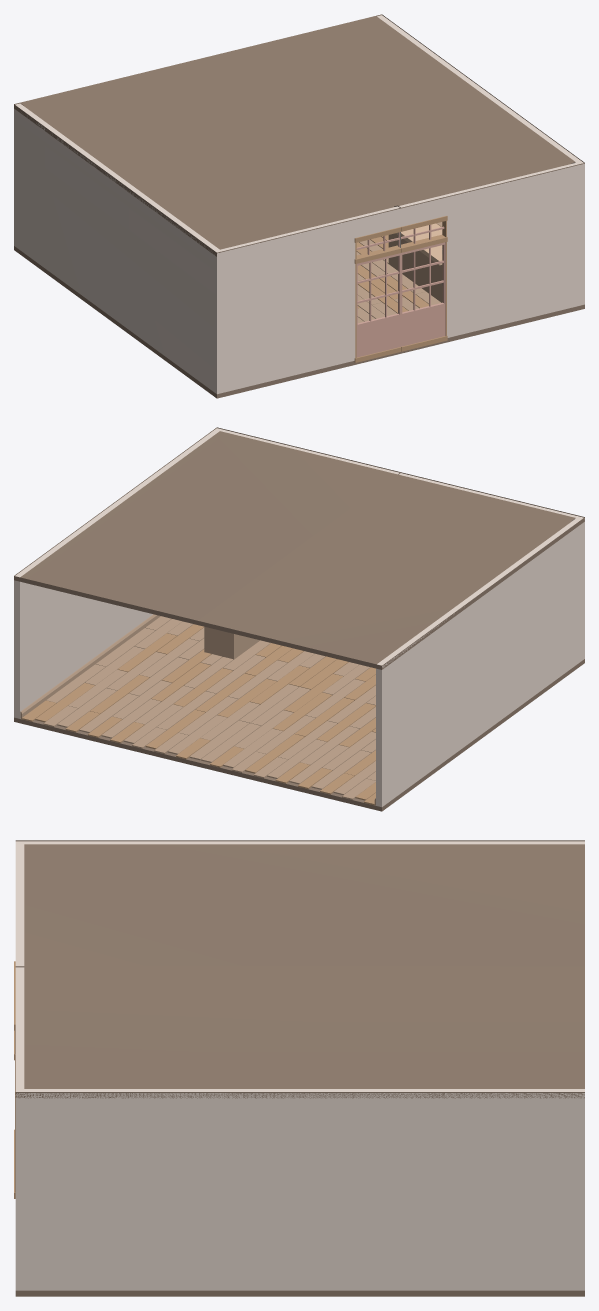
The model's file is StoreScene.fbx.
The picture shows the model from 3 angles, top to bottom: view 1: azimuth 30°, elevation 25°; view 2: azimuth 150°, elevation 25°; view 3: azimuth 270°, elevation 25°; orthographic projection. The views are drawn at different scales.
Parts seen in each view (by area): view 1: _29.003, _16__1_.003, _212.004, _16.003, _42.007, _42.006, _5.002, _79.003; view 2: _16__1_.003, _29.003, _212.004, _16.003, _79.003, _212.005; view 3: _16__1_.003, _29.003, _16.003.
Part boxes in pixels (left/top/right/bottom): _29.003: left=14, top=15, right=584, bottom=394; _16__1_.003: left=14, top=14, right=584, bottom=256; _212.004: left=356, top=222, right=442, bottom=323; _16.003: left=14, top=246, right=584, bottom=398; _42.007: left=401, top=242, right=445, bottom=346; _42.006: left=356, top=253, right=400, bottom=357; _5.002: left=354, top=216, right=447, bottom=362; _79.003: left=388, top=223, right=442, bottom=302; _16__1_.003: left=14, top=427, right=584, bottom=669; _29.003: left=14, top=428, right=584, bottom=807; _212.004: left=21, top=616, right=375, bottom=805; _16.003: left=14, top=659, right=584, bottom=811; _79.003: left=204, top=626, right=259, bottom=659; _212.005: left=20, top=614, right=375, bottom=805; _16__1_.003: left=15, top=840, right=584, bottom=1098; _29.003: left=15, top=841, right=584, bottom=1290; _16.003: left=15, top=1290, right=584, bottom=1296.
Bounding box in the file's own units: 922 × 349 × 883.
